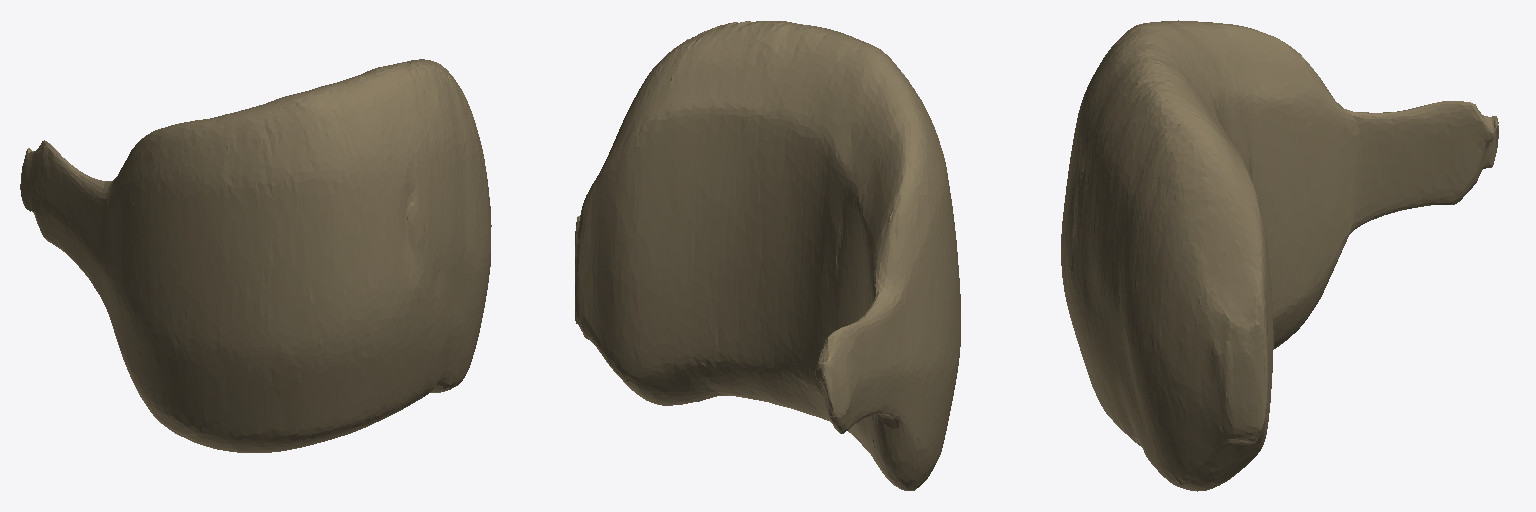
URDF robot description (banana):
<?xml version="1.0"?>
<robot name="banana">
  <link name="base_link">
    <visual>
      <origin xyz="0 0 0" rpy="0 0 0" />
      <geometry>
        <mesh filename="banana-normalized.obj"/>      
      </geometry>
      <material name="tan">
        <color rgba="0.55 0.5 0.4 1"/>
      </material>
    </visual>
    <collision>
      <origin xyz="0 0 0" rpy="0 0 0" />
      <geometry>
        <mesh filename="banana-normalized.obj"/>
      </geometry>
    </collision>
    <inertial>
      <mass value="0.2" />
      <inertia ixx="0.02" ixy="0.0" ixz="0.0" iyy="0.1" iyz="0.0" izz="0.1"/>
    </inertial>
  </link>
</robot>

--- What the picture shows (computed from the rendered views, not written in the file) ---
Views: 3 orthographic renders of the robot side by side, from view 1: azimuth 30°, elevation 25°; view 2: azimuth 150°, elevation 25°; view 3: azimuth 270°, elevation 25°.
Model banana with 1 links and 0 joints (none), rooted at base_link, posed all joints at 0.
Links seen in each view (by area): view 1: base_link; view 2: base_link; view 3: base_link.
Boxes of the visible links, x1,y1,x2,y2 form: base_link: (20, 59, 491, 452); base_link: (575, 21, 960, 490); base_link: (1061, 20, 1498, 491).
Size in the robot's own frame: 1 by 1 by 1 metres.
Meshes: 1 distinct files referenced, 1 mesh visuals loaded (1 OBJ).
